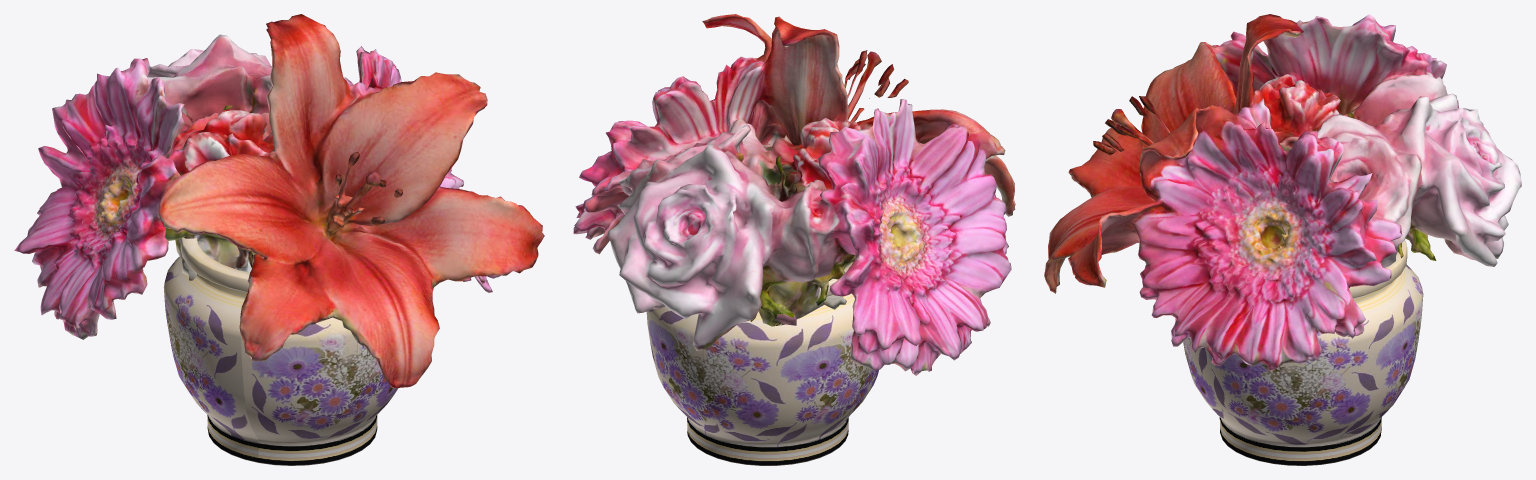
File: flores.glb
The picture shows the model from 3 angles, left to right: view 1: azimuth 30°, elevation 25°; view 2: azimuth 150°, elevation 25°; view 3: azimuth 270°, elevation 25°; orthographic projection. The views are drawn at different scales.
Parts seen in each view (by area): view 1: flowers, vase; view 2: flowers, vase; view 3: flowers, vase.
Part boxes in pixels (<box>): flowers: <box>14,14,544,388</box>; vase: <box>163,237,398,465</box>; flowers: <box>573,14,1015,375</box>; vase: <box>646,262,878,465</box>; flowers: <box>1044,14,1521,370</box>; vase: <box>1183,240,1423,465</box>.
Bounding box in the file's own units: 0.1896 × 0.1831 × 0.197.
Materials: 2 (2 with a texture image).
